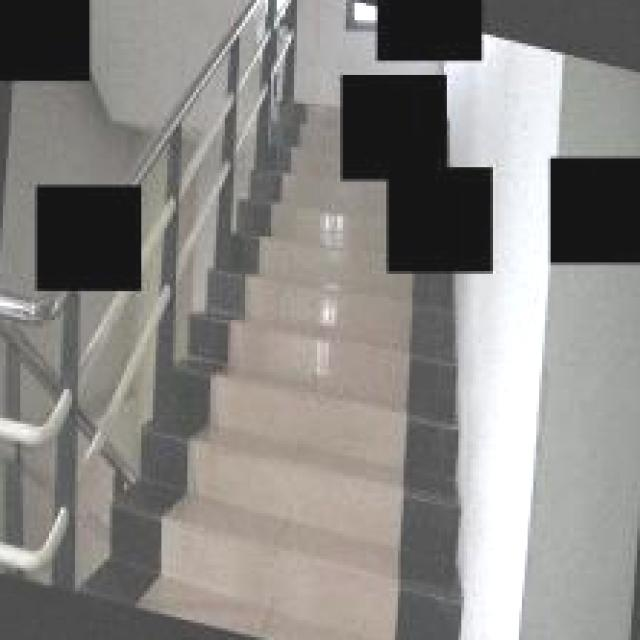upstair: (143, 312, 483, 640)
